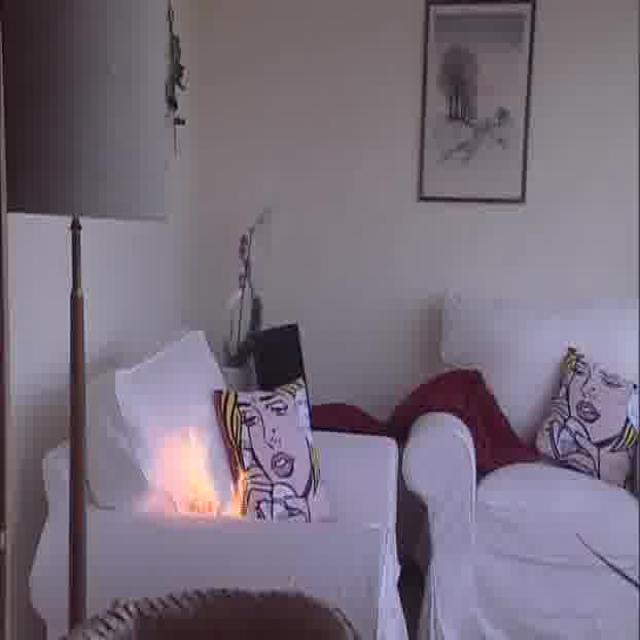fire: (164, 441, 231, 518)
